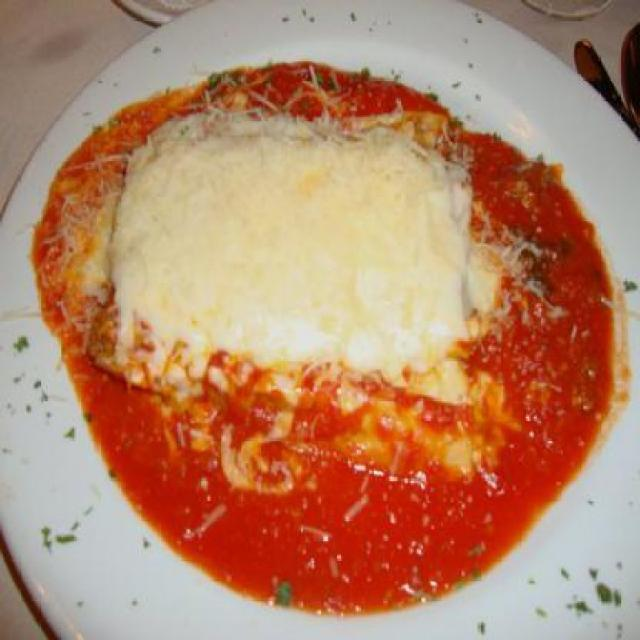Lasagna: (64, 61, 593, 518)
